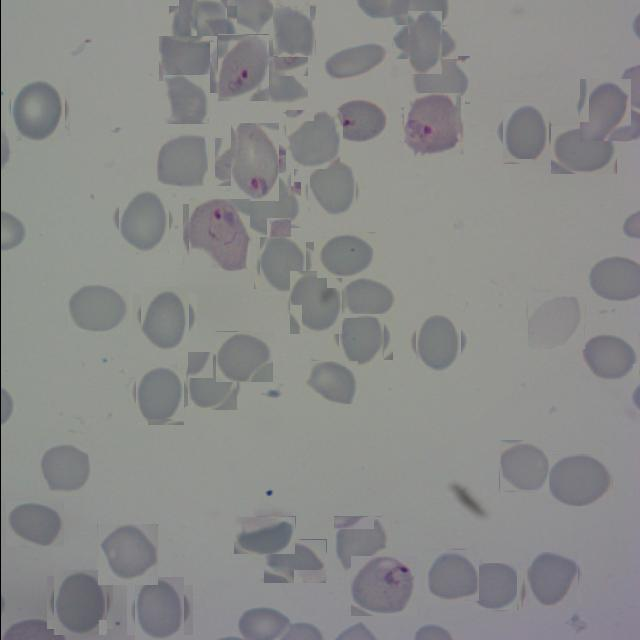leukocyte: (96, 524, 158, 584), (49, 573, 109, 632), (8, 80, 66, 139), (114, 192, 172, 250), (130, 581, 188, 639), (286, 274, 344, 332), (173, 1, 231, 59), (548, 454, 612, 506), (526, 292, 584, 349), (576, 81, 633, 138), (284, 110, 340, 168), (550, 126, 616, 174), (136, 290, 192, 346), (67, 283, 130, 332), (132, 366, 186, 422), (333, 516, 391, 568), (240, 178, 295, 232), (215, 331, 273, 382), (334, 310, 388, 364), (498, 106, 552, 160), (256, 238, 310, 292), (185, 354, 239, 408), (38, 442, 92, 496), (304, 160, 358, 214), (154, 132, 208, 186), (408, 56, 468, 104), (579, 332, 639, 380), (424, 548, 477, 602), (316, 231, 376, 278), (411, 315, 464, 368), (319, 42, 389, 82), (263, 540, 326, 584), (498, 440, 551, 492), (527, 554, 579, 605), (5, 501, 63, 546), (158, 36, 216, 81), (471, 562, 523, 610), (304, 360, 358, 404), (233, 516, 295, 554), (399, 18, 448, 66), (259, 57, 307, 106), (162, 74, 209, 124), (340, 278, 395, 318), (272, 5, 315, 56)
red blood cell: (185, 201, 252, 268), (222, 130, 285, 194), (350, 556, 416, 616), (402, 95, 462, 155), (212, 38, 272, 97)
